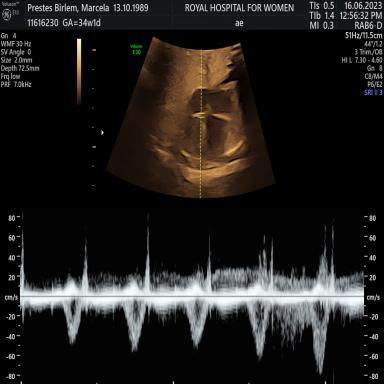Ultrasound-Waves: (27, 209, 361, 384)
